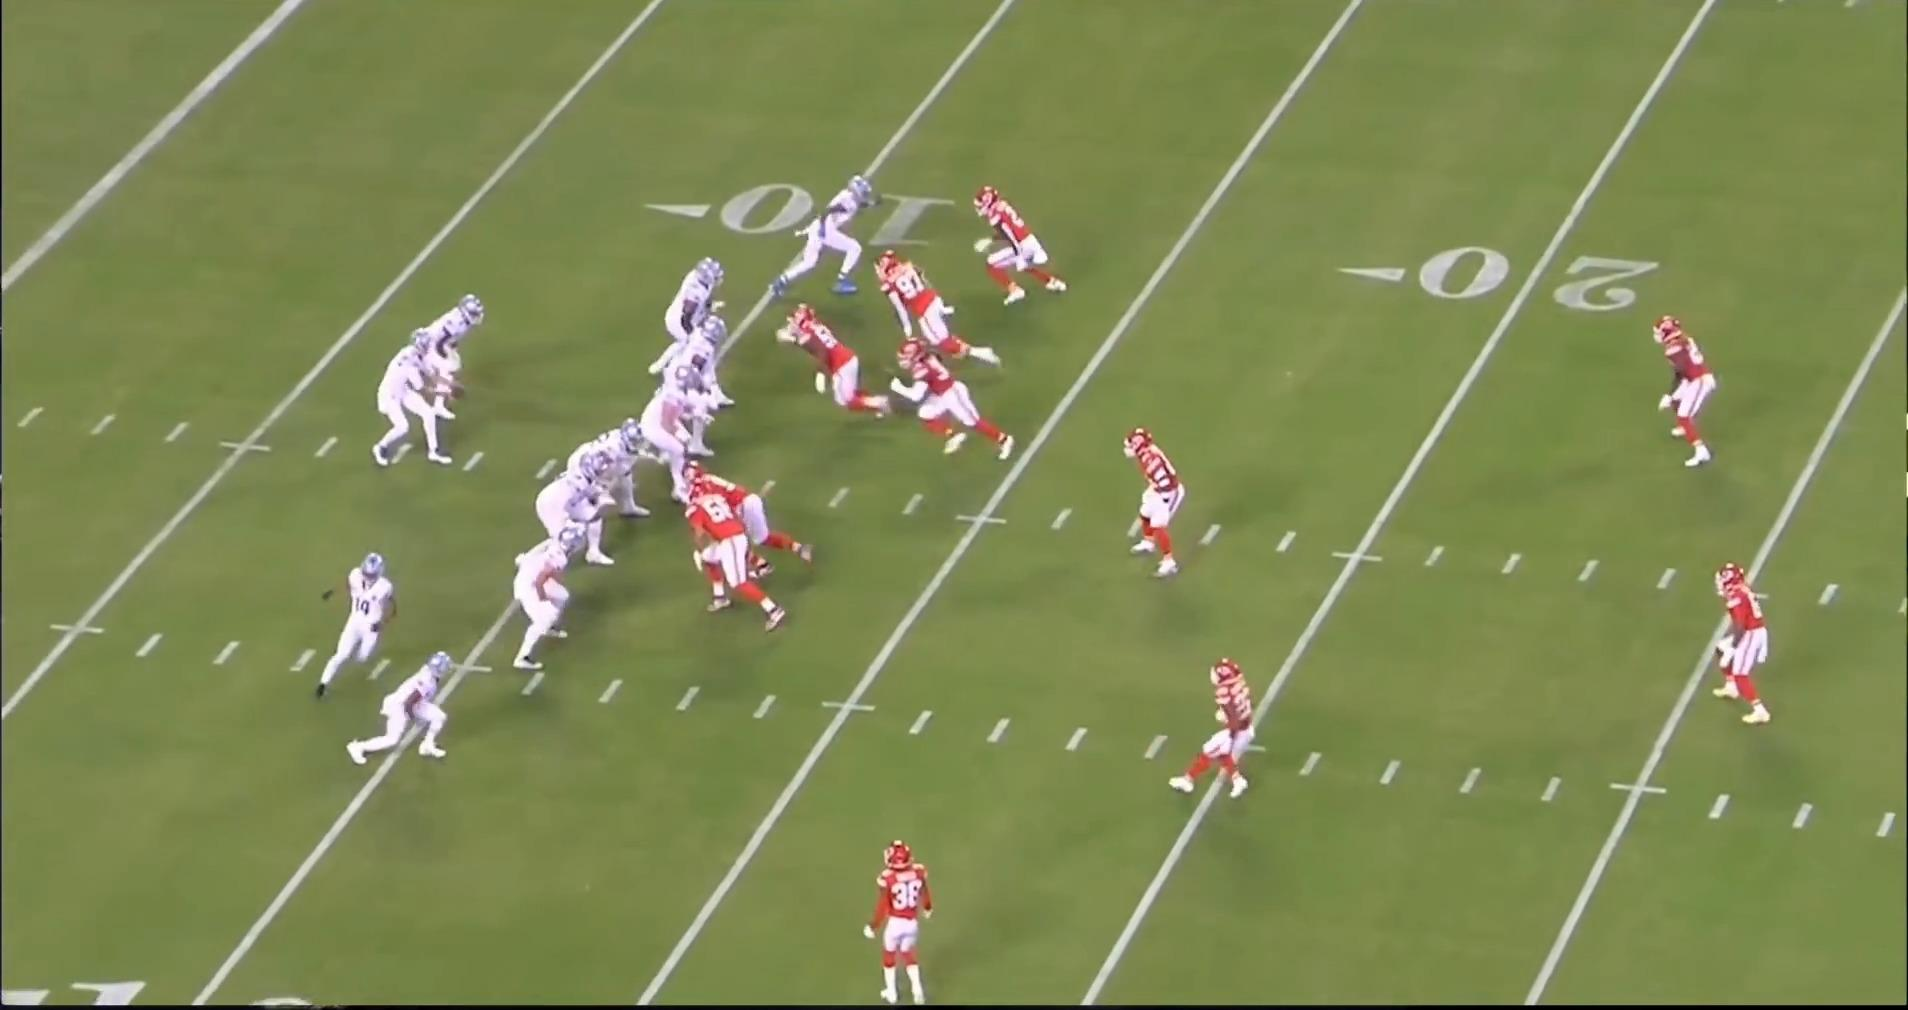player: (871, 336, 1018, 464), (682, 475, 795, 636), (875, 242, 1009, 374), (309, 544, 405, 704), (772, 302, 892, 423), (1174, 654, 1271, 803), (766, 172, 876, 301), (351, 645, 466, 767), (684, 457, 814, 564), (502, 520, 589, 676), (969, 178, 1073, 306), (1699, 561, 1774, 731), (860, 837, 935, 1003), (1643, 309, 1716, 474), (375, 335, 460, 474), (651, 244, 734, 380), (640, 374, 718, 517), (1115, 425, 1181, 589), (565, 418, 651, 543), (534, 453, 617, 573), (661, 312, 744, 413), (418, 294, 482, 424)
